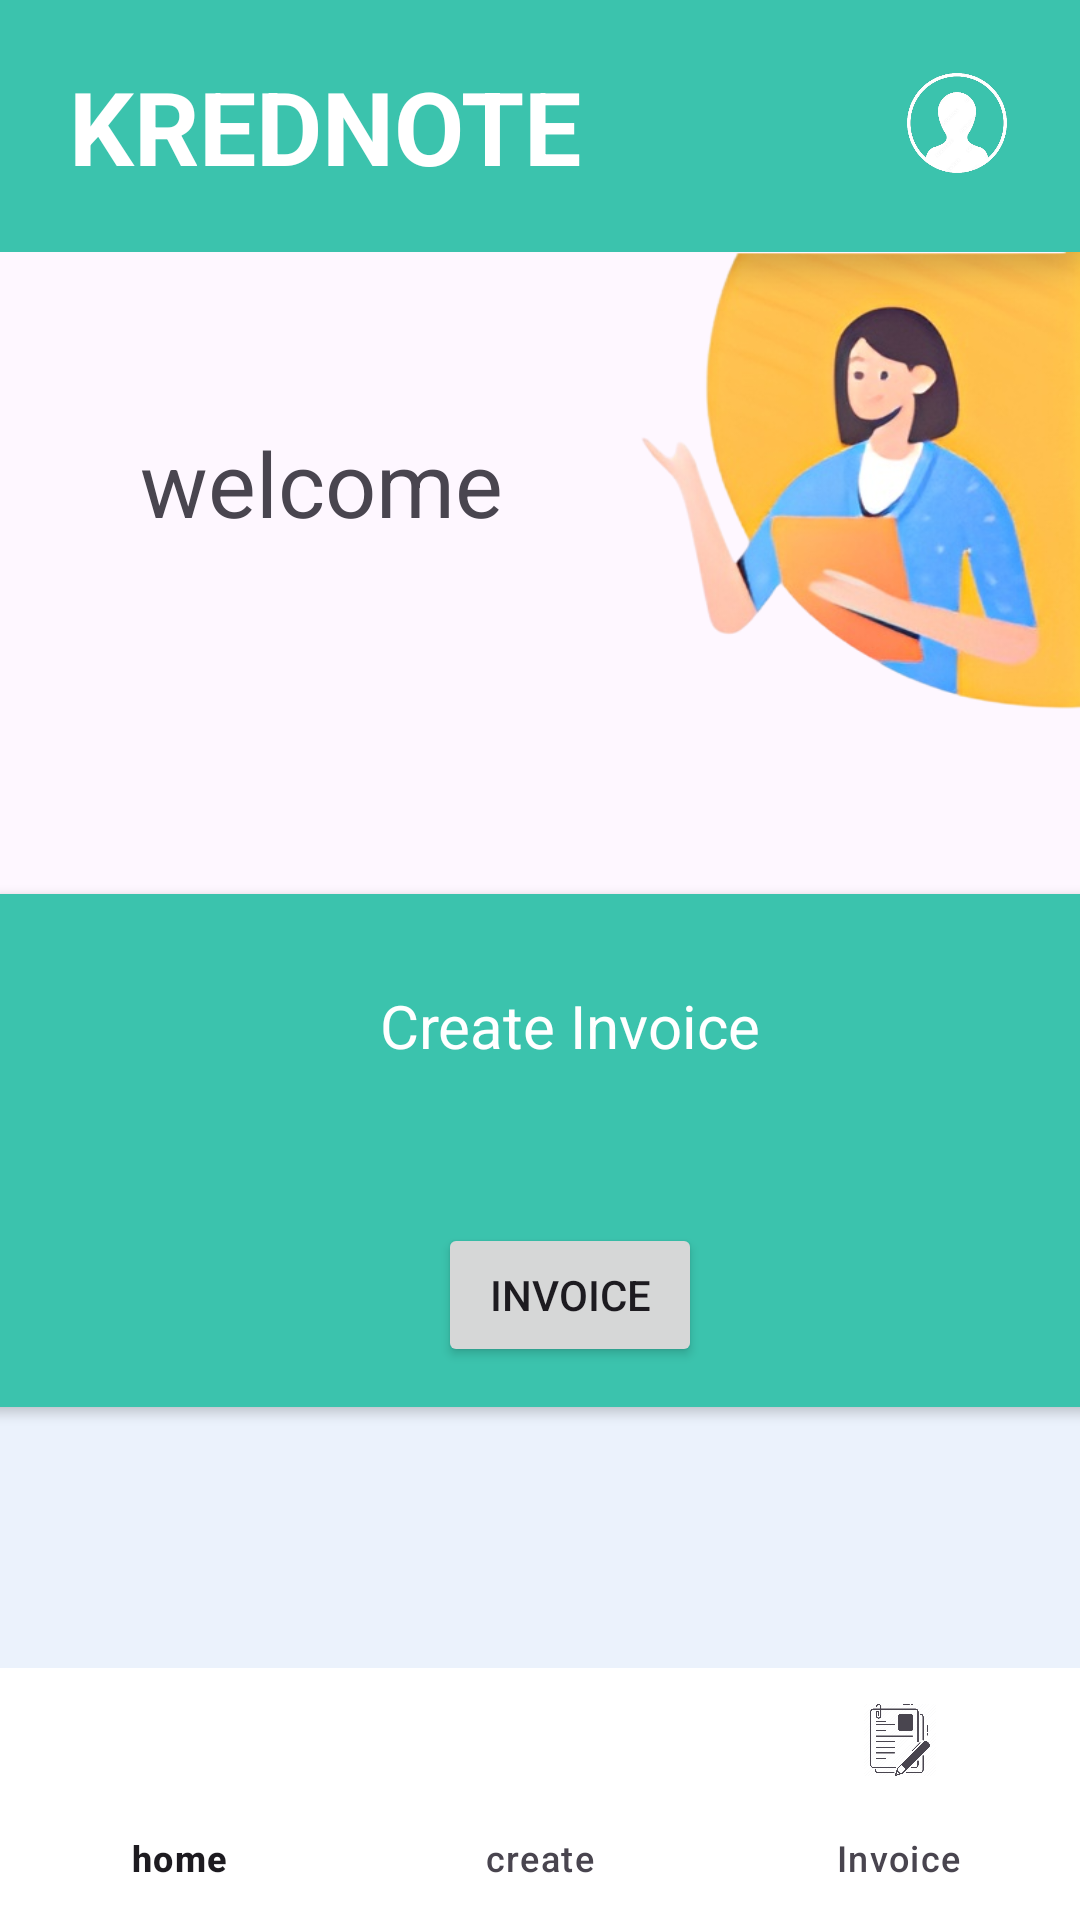

Where icons sit on this 1080w x 1920h app screen, as (x1, y1, x2, y2):
profile: (907, 73, 1007, 173)
